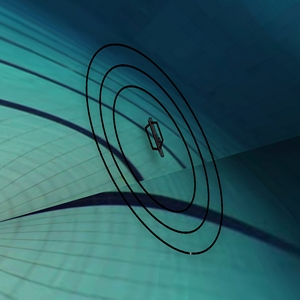circle: (65, 30, 244, 264)
submarine: (134, 115, 176, 164)
